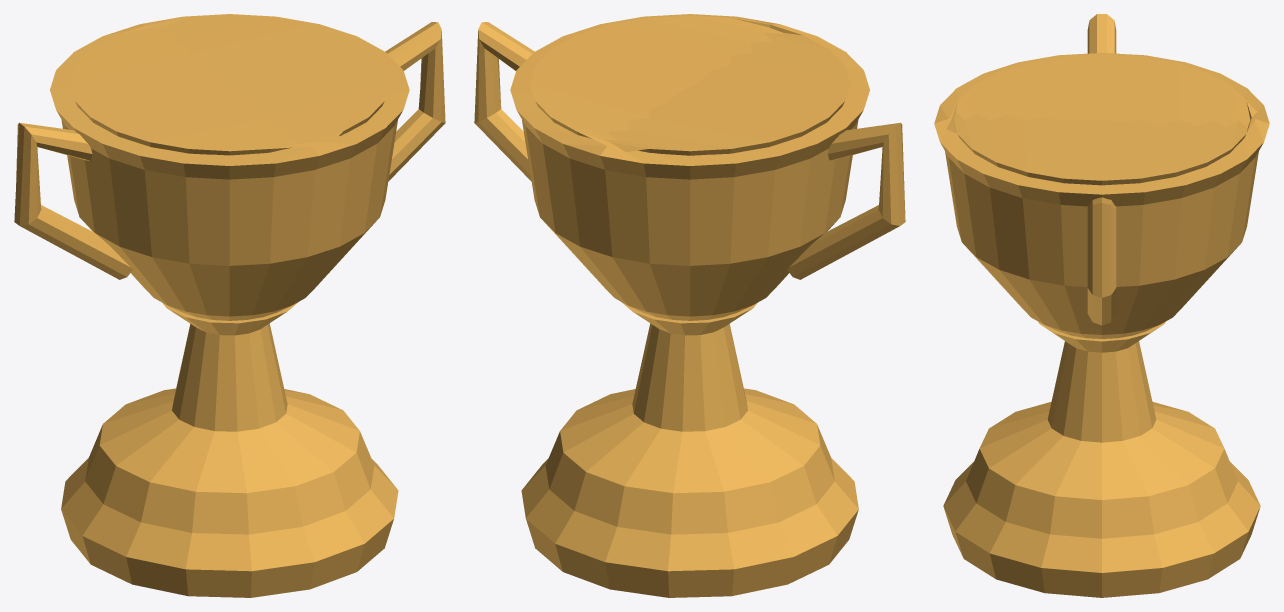
The model's file is trophy0.glb.
3 views of the same model, side by side, from view 1: azimuth 30°, elevation 25°; view 2: azimuth 150°, elevation 25°; view 3: azimuth 270°, elevation 25° (orthographic). The views are drawn at different scales.
Visible parts, largest first — view 1: Trophy0; view 2: Trophy0; view 3: Trophy0.
Part boxes in pixels (x1,y1,x2,y2): Trophy0: (14, 14, 445, 597); Trophy0: (474, 14, 905, 597); Trophy0: (934, 14, 1269, 597).
Bounding box in the file's own units: 1.01 × 1.04 × 0.74.
